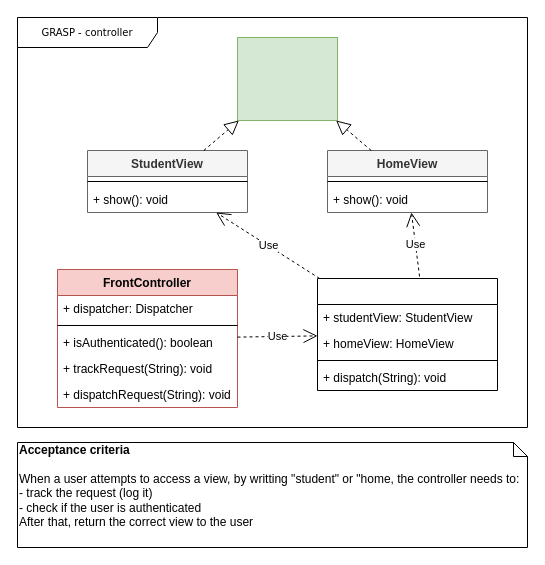
The diagram is 545 pixels wide and 565 high, and some of its shapes have lost their labels. The box of each missing label's shape, as (x1, y1, x2, y2) in pixels:
<<Interface>> BaseView + show(): void: (236, 36, 338, 120)
Dispatcher: (316, 278, 498, 390)
